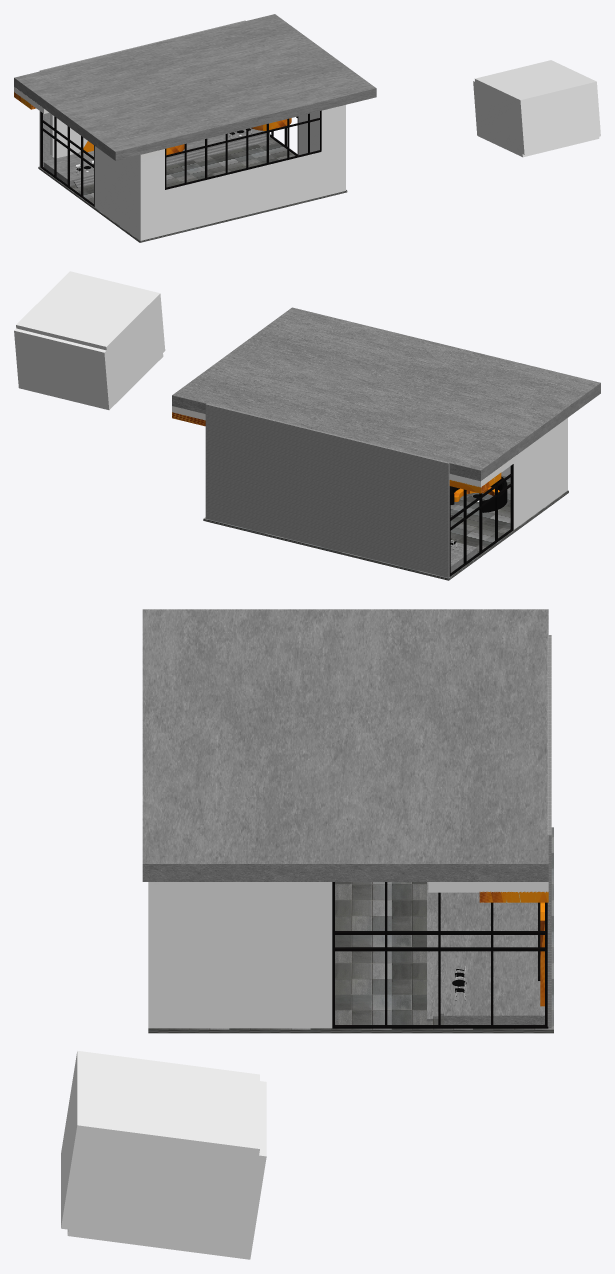
Rendered from club_cnv.glb.
The picture shows the model from 3 angles, top to bottom: view 1: azimuth 30°, elevation 25°; view 2: azimuth 150°, elevation 25°; view 3: azimuth 270°, elevation 25°; orthographic projection. The views are drawn at different scales.
Visible parts, largest first — view 1: TECHO1, Box072, MUROS003, MUROS (×3), PISO PRINCIPAL, MUROS001, Box073, MUROS002, Box001, ESCALERAS (×3), PLASTICO BLANCO, Box003 (+1 smaller); view 2: TECHO1, MUROS, Box072, Box073, MUROS001, PISO PRINCIPAL, TECHO2, PLASTICO AZUL, Box001, Color:013; view 3: TECHO1, Box072, MUROS (×2), PISO PRINCIPAL, Box073, Box001, TECHO2, Box048, Box022.
Part boxes in pixels (x1=…): TECHO1: x1=14, y1=14, x2=376, y2=160; Box072: x1=475, y1=60, x2=600, y2=154; MUROS003: x1=165, y1=151, x2=321, y2=234; MUROS (×3): x1=39, y1=20, x2=345, y2=196; PISO PRINCIPAL: x1=38, y1=134, x2=347, y2=242; MUROS001: x1=94, y1=146, x2=142, y2=240; Box073: x1=473, y1=80, x2=599, y2=157; MUROS002: x1=142, y1=149, x2=164, y2=240; Box001: x1=43, y1=128, x2=269, y2=185; ESCALERAS (×3): x1=73, y1=134, x2=266, y2=187; PLASTICO BLANCO: x1=50, y1=113, x2=87, y2=158; Box003: x1=165, y1=150, x2=321, y2=189; TECHO1: x1=172, y1=307, x2=600, y2=481; MUROS: x1=205, y1=403, x2=449, y2=577; Box072: x1=16, y1=271, x2=165, y2=403; Box073: x1=14, y1=299, x2=163, y2=409; MUROS001: x1=513, y1=418, x2=567, y2=529; PISO PRINCIPAL: x1=203, y1=475, x2=568, y2=580; TECHO2: x1=172, y1=406, x2=516, y2=487; PLASTICO AZUL: x1=172, y1=412, x2=501, y2=493; Box001: x1=450, y1=542, x2=477, y2=572; Color:013: x1=450, y1=476, x2=507, y2=512; TECHO1: x1=142, y1=609, x2=548, y2=881; Box072: x1=61, y1=1050, x2=259, y2=1252; MUROS (×2): x1=148, y1=635, x2=551, y2=1028; PISO PRINCIPAL: x1=148, y1=827, x2=553, y2=1033; Box073: x1=67, y1=1081, x2=266, y2=1259; Box001: x1=444, y1=892, x2=544, y2=1024; TECHO2: x1=428, y1=882, x2=548, y2=892; Box048: x1=335, y1=947, x2=545, y2=951; Box022: x1=332, y1=1025, x2=548, y2=1028.
Bounding box in the file's own units: 5398 × 1092 × 2478.
Materials: 20 (7 with a texture image).
